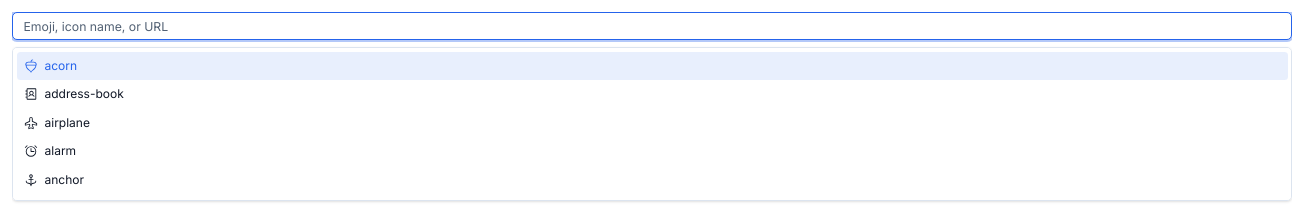
IconEditableValue › shows an empty state when no icon matches the query
In the dropdown with test id "icon-editable-input": x=652, y=26 [12, 12, 1292, 40], type "totally-not-a-real-icon"
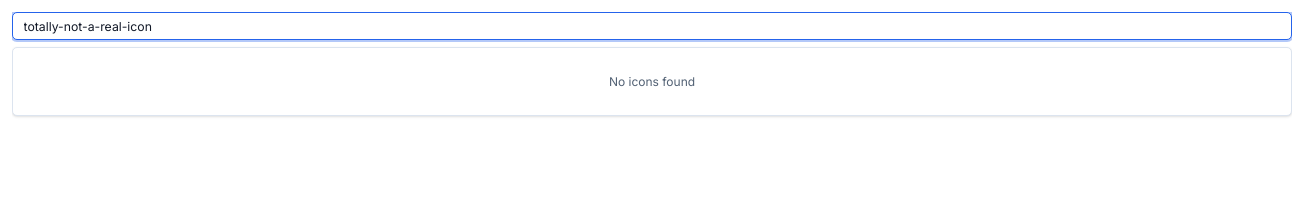
Result: the text with test id "icon-picker-empty" reads "No icons found" at [609, 74, 695, 88]
